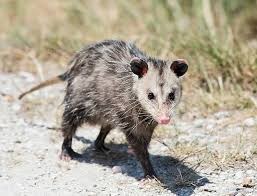opossum: (19, 40, 190, 177)
